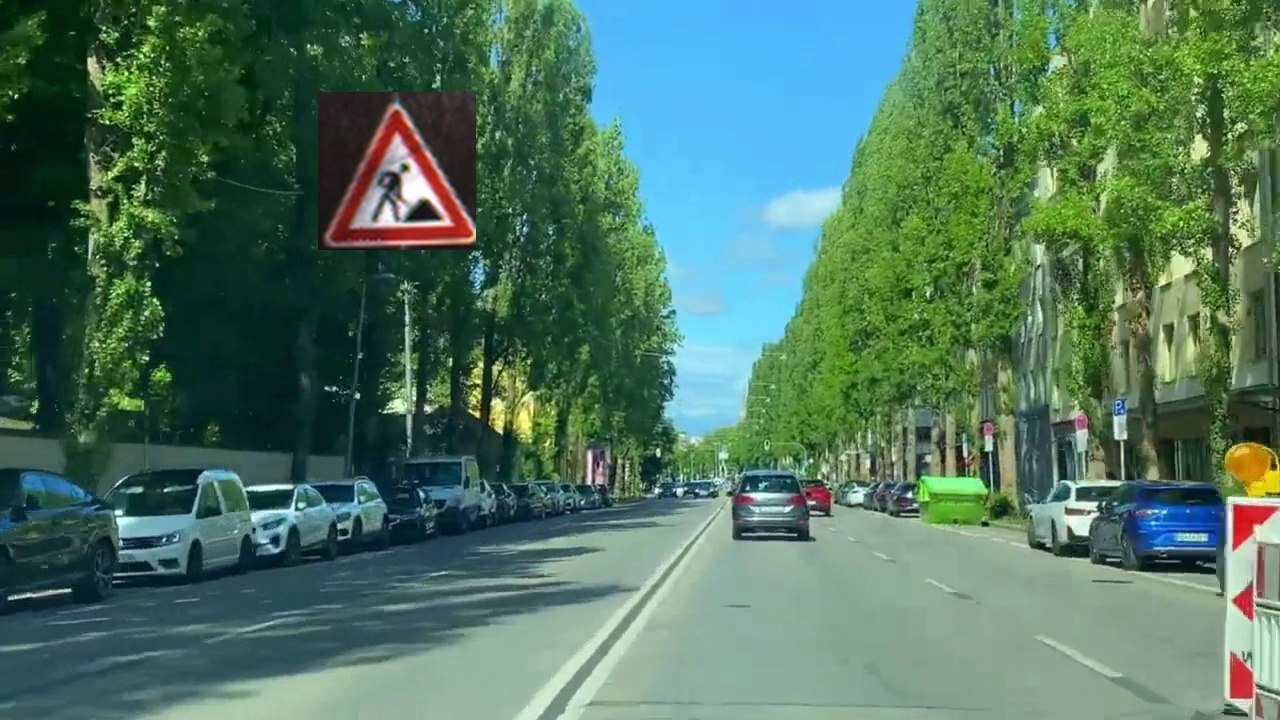Road work: (318, 92, 476, 250)
